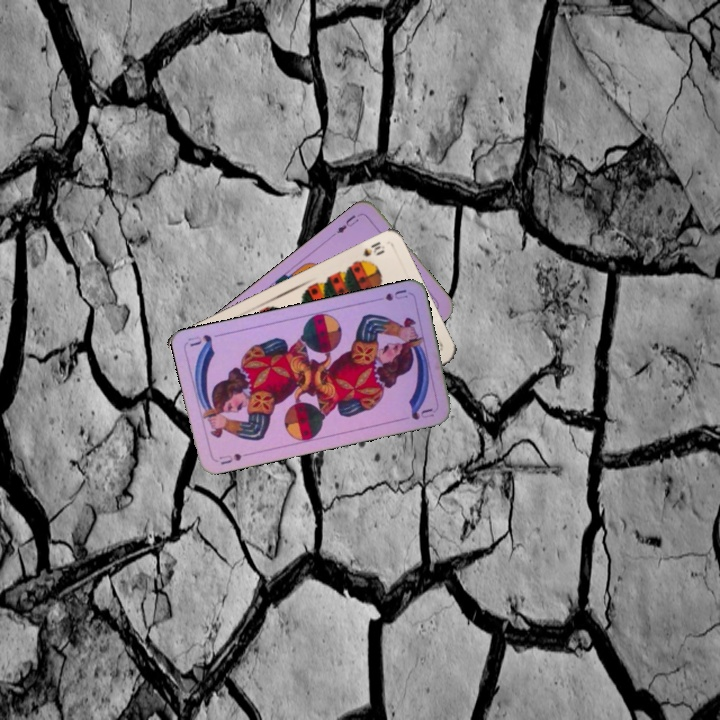EU: (332, 209, 364, 236)
S10: (352, 237, 387, 266)
SU: (370, 285, 410, 304), (212, 449, 252, 467)
